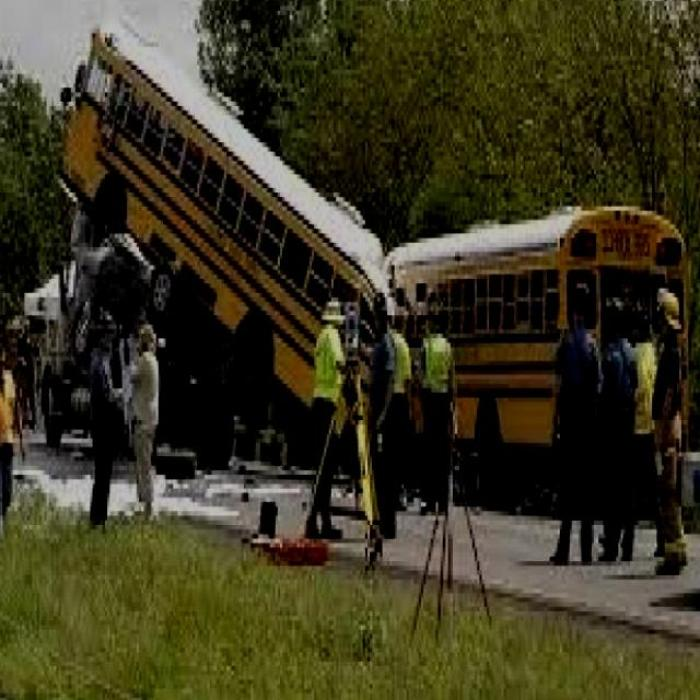Accident: (44, 59, 425, 481)
